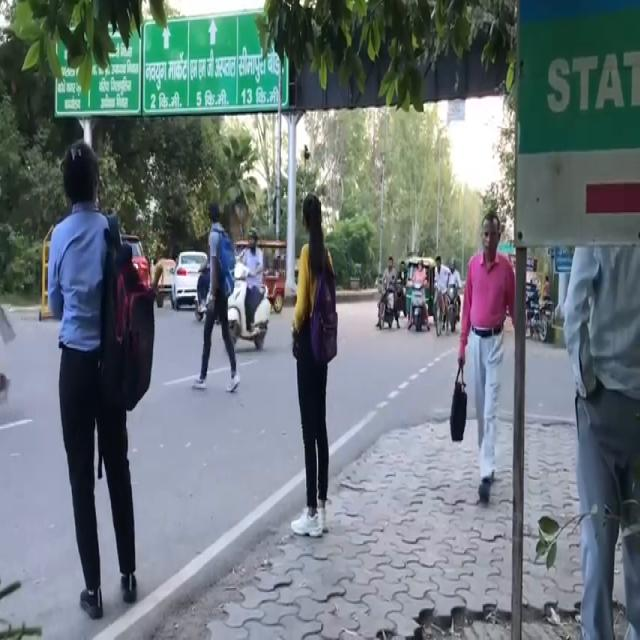MOTORCYCLE: (228, 266, 273, 351), (410, 276, 422, 334)
